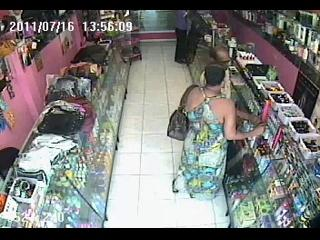Normal: (173, 64, 270, 202), (167, 84, 200, 142), (174, 10, 189, 64)
